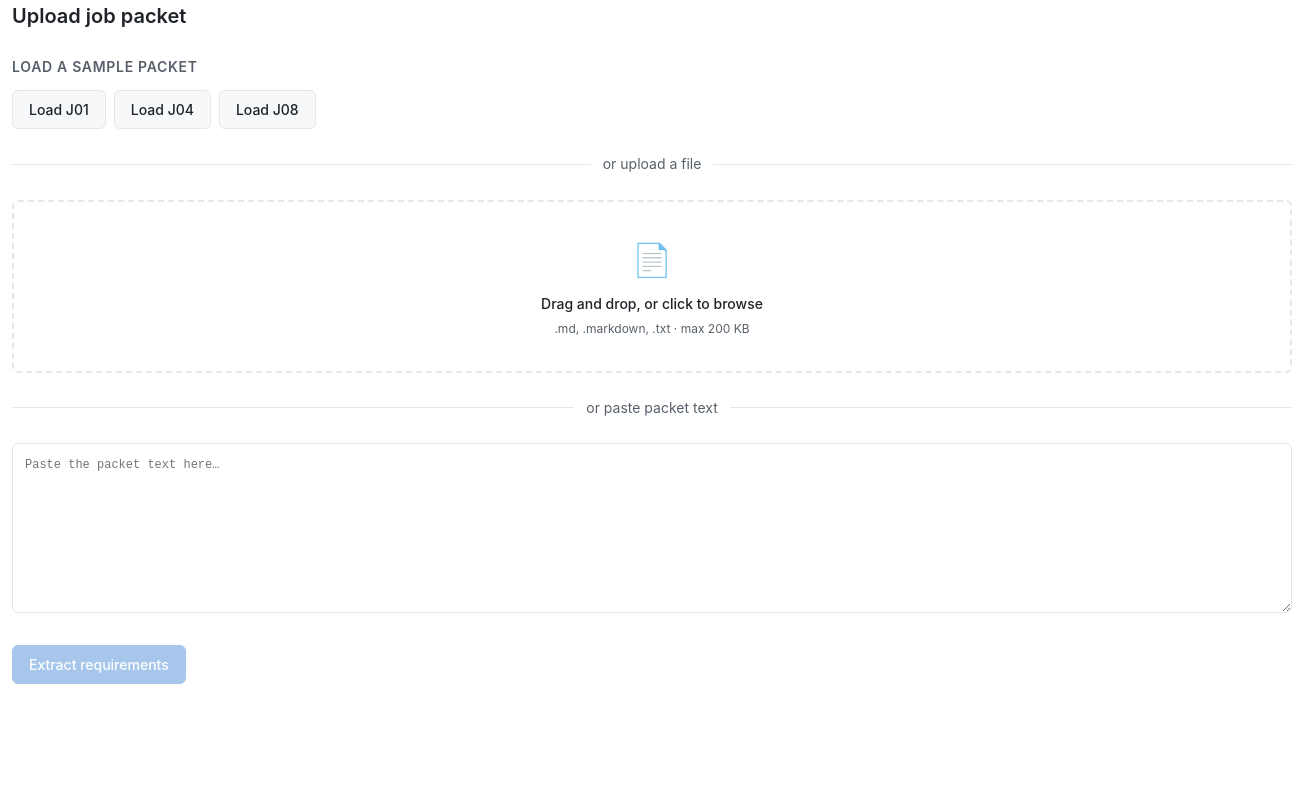
Test: UploadScreen › loads a sample file and shows file info on Load J01 click
The image size is (1304, 800).
Click the button "Load J01" at (59, 110), box [12,90,106,129]
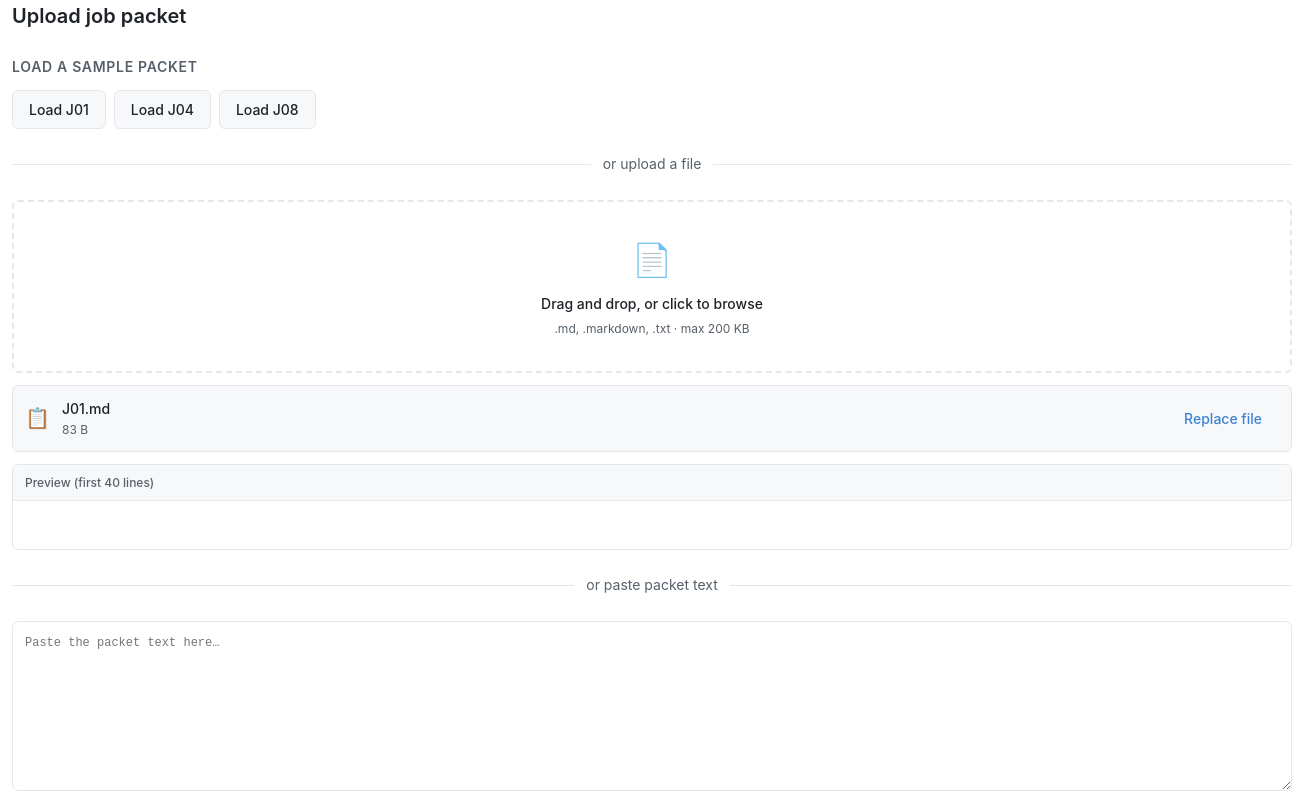
Check: the text "J01.md" is shown, box [62,400,110,416]
